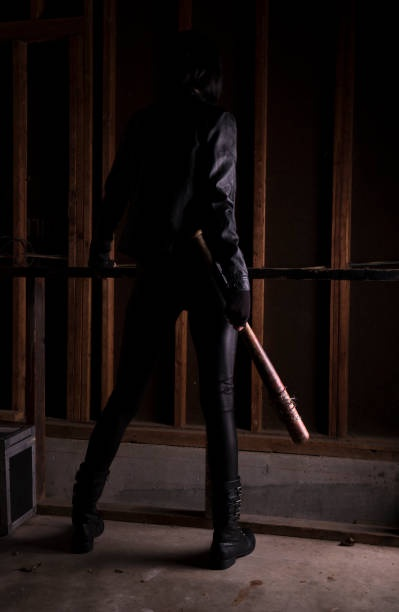bita: (184, 229, 306, 441)
